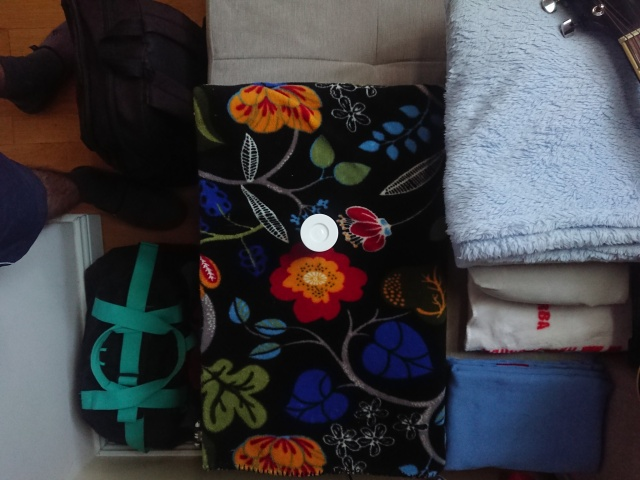Solana Pag Fine Sea Salt 250g: (297, 211, 341, 254)
